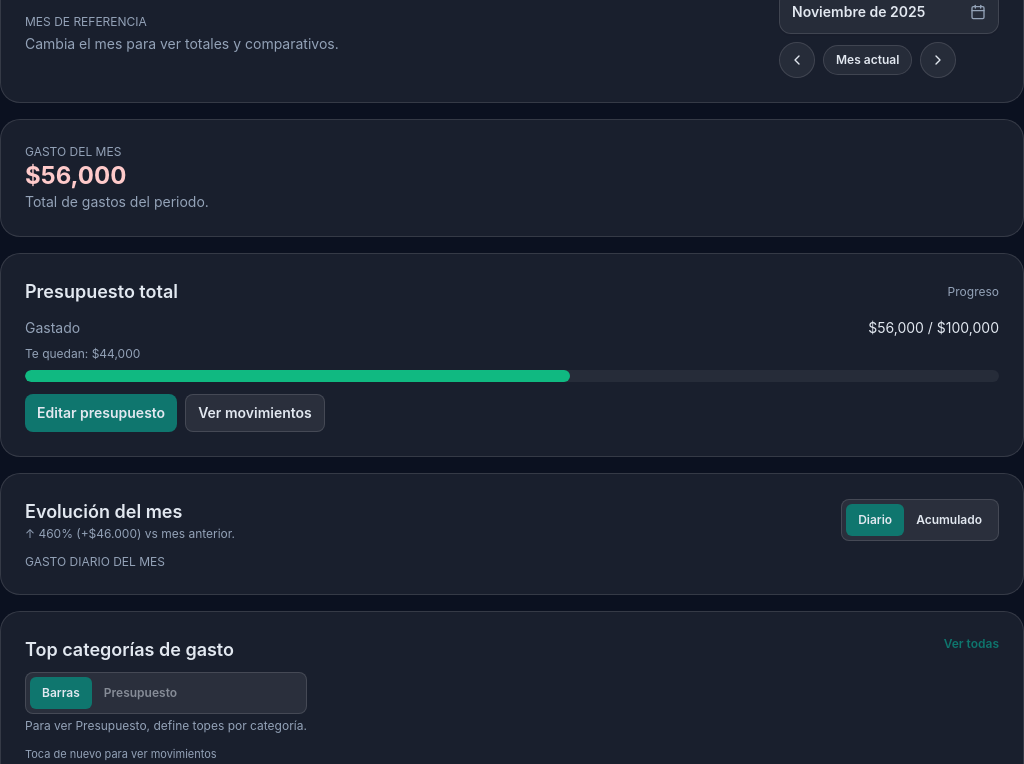
Test case: MetricsPage › opens and closes the categories modal when there are more than 3 categories
(page scrolled)
Click the button "Ver todas": [971, 644] box [944,636,999,652]
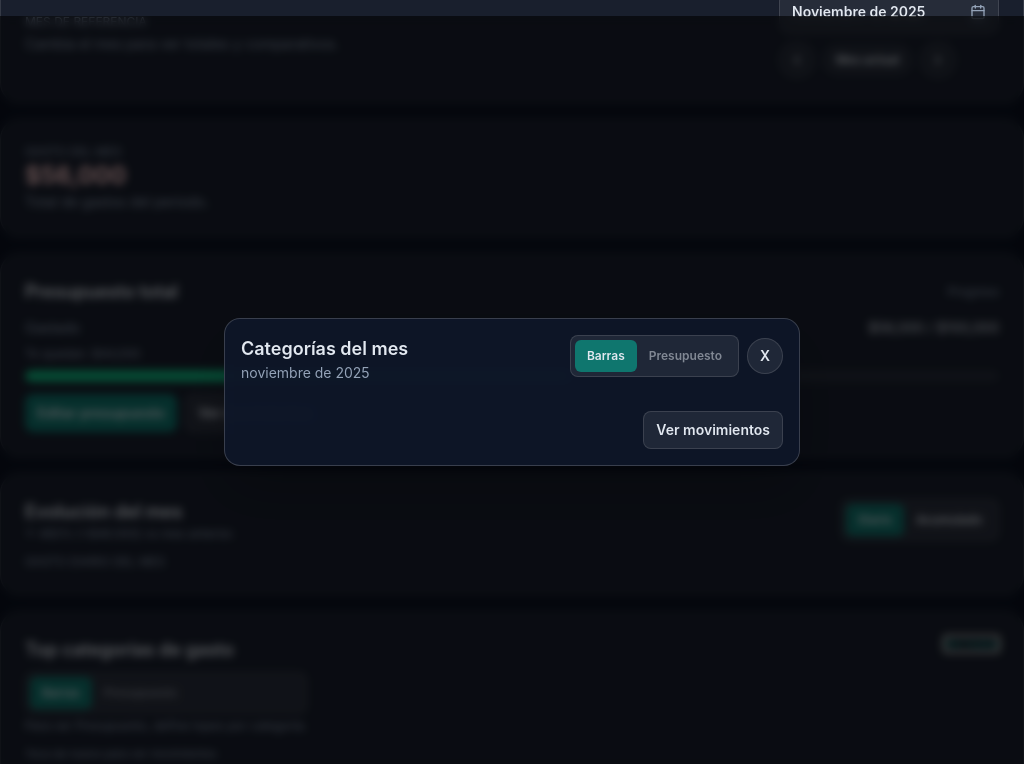
expect the dialog "Categorías del mes" is shown: met, box [224,318,800,466]
Click the button named "Cerrar": [765, 356] box [747,338,783,374]
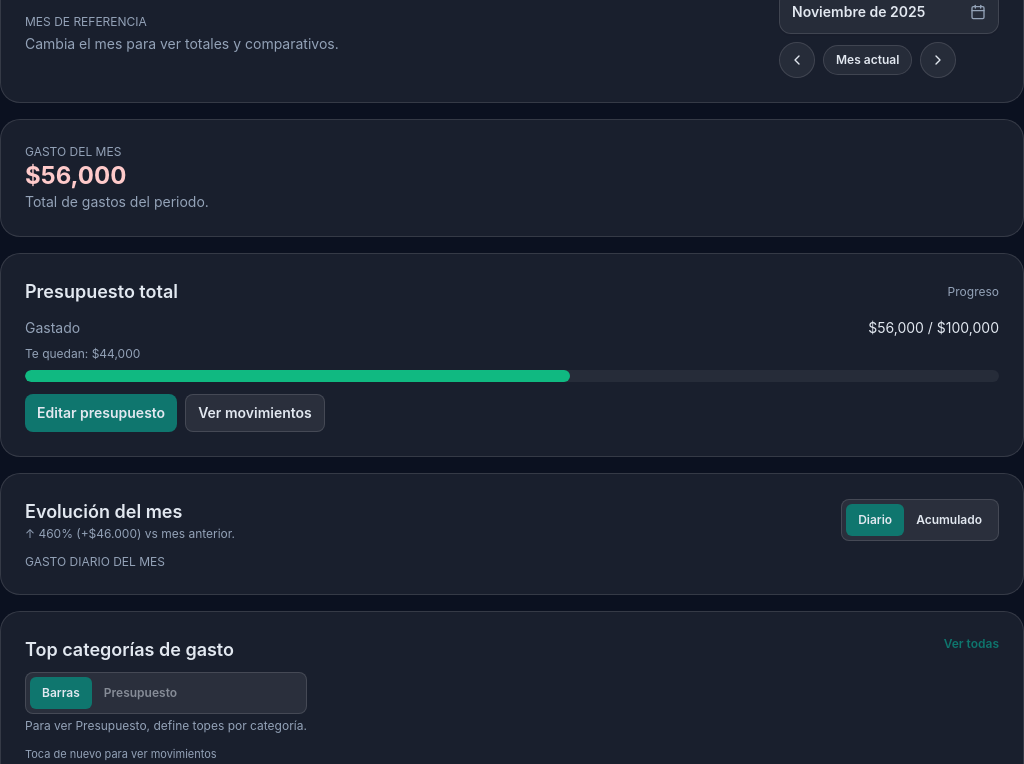
expect the heading "Categorías del mes" is gone: met
